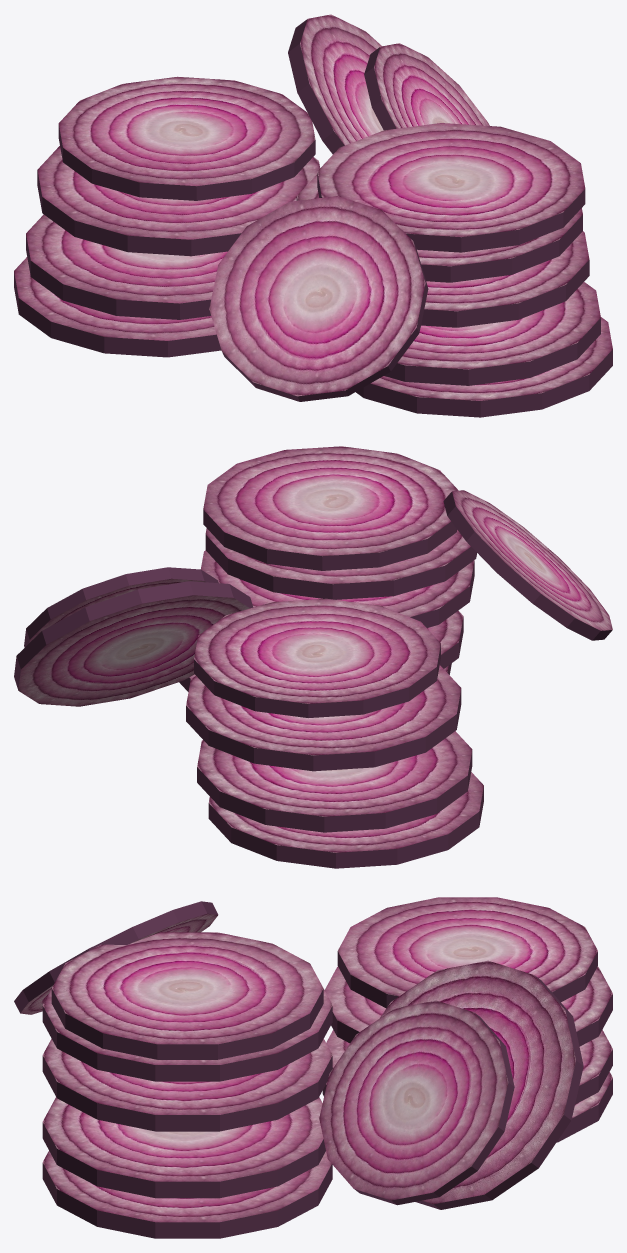
File: onionTable.fbx
3 renders of one model, top to bottom at view 1: azimuth 30°, elevation 25°; view 2: azimuth 150°, elevation 25°; view 3: azimuth 270°, elevation 25°, orthographic. The views are drawn at different scales.
Parts seen in each view (by area): view 1: Cylinder.006; view 2: Cylinder.006; view 3: Cylinder.006.
Part boxes in pixels (x1,y1,x2,y2): Cylinder.006: (14, 14, 612, 417); Cylinder.006: (14, 446, 612, 868); Cylinder.006: (14, 897, 612, 1238).
Bounding box in the file's own units: 29.54 × 12.89 × 33.47.
Materials: 2 (1 with a texture image).
